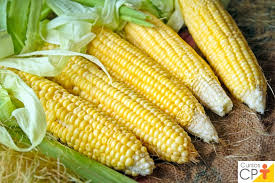milho: (12, 13, 261, 153)
